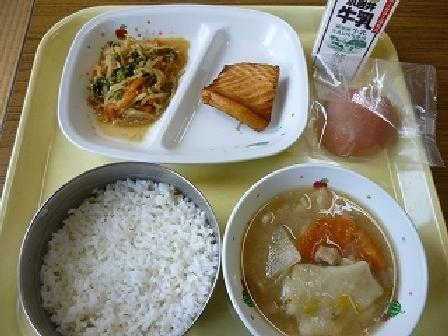Bread: (301, 69, 424, 167)
Milk: (306, 0, 407, 68)
Rice: (25, 160, 215, 335)
Soups: (226, 170, 424, 335)
pastry: (204, 44, 289, 133)
salad with sauce: (70, 23, 183, 126)
